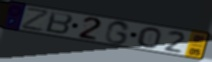2: (77, 17, 104, 42), (163, 31, 187, 54)
B: (44, 11, 75, 36)
G: (103, 20, 132, 46)
O: (137, 27, 163, 50)
Z: (20, 7, 51, 33)
